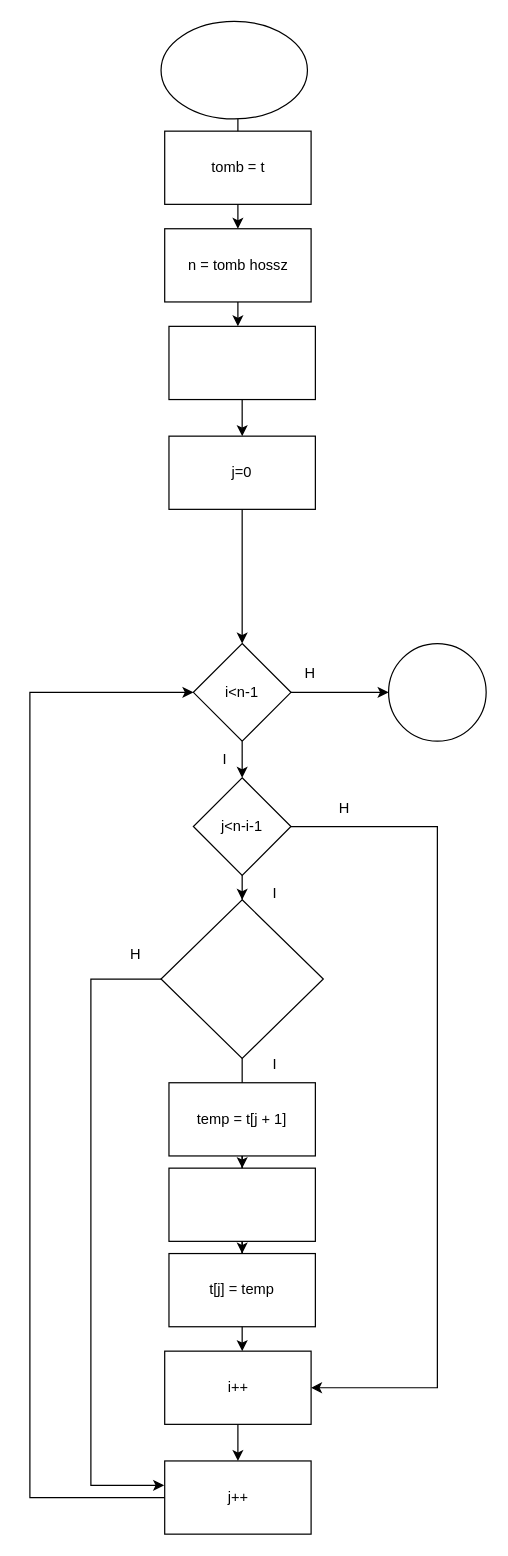
Image size: 508x1556. Some labels were removed from this diagram. Here are the shapes that lost their labels. From the top down, the centre of each, then its label:
At point 233,69: "Start".
At point 241,362: "i=0".
At point 436,691: "End".
At point 241,978: "t[j] > t[j+1]".
At point 241,1204: "t[j + 1] = t[j]".
